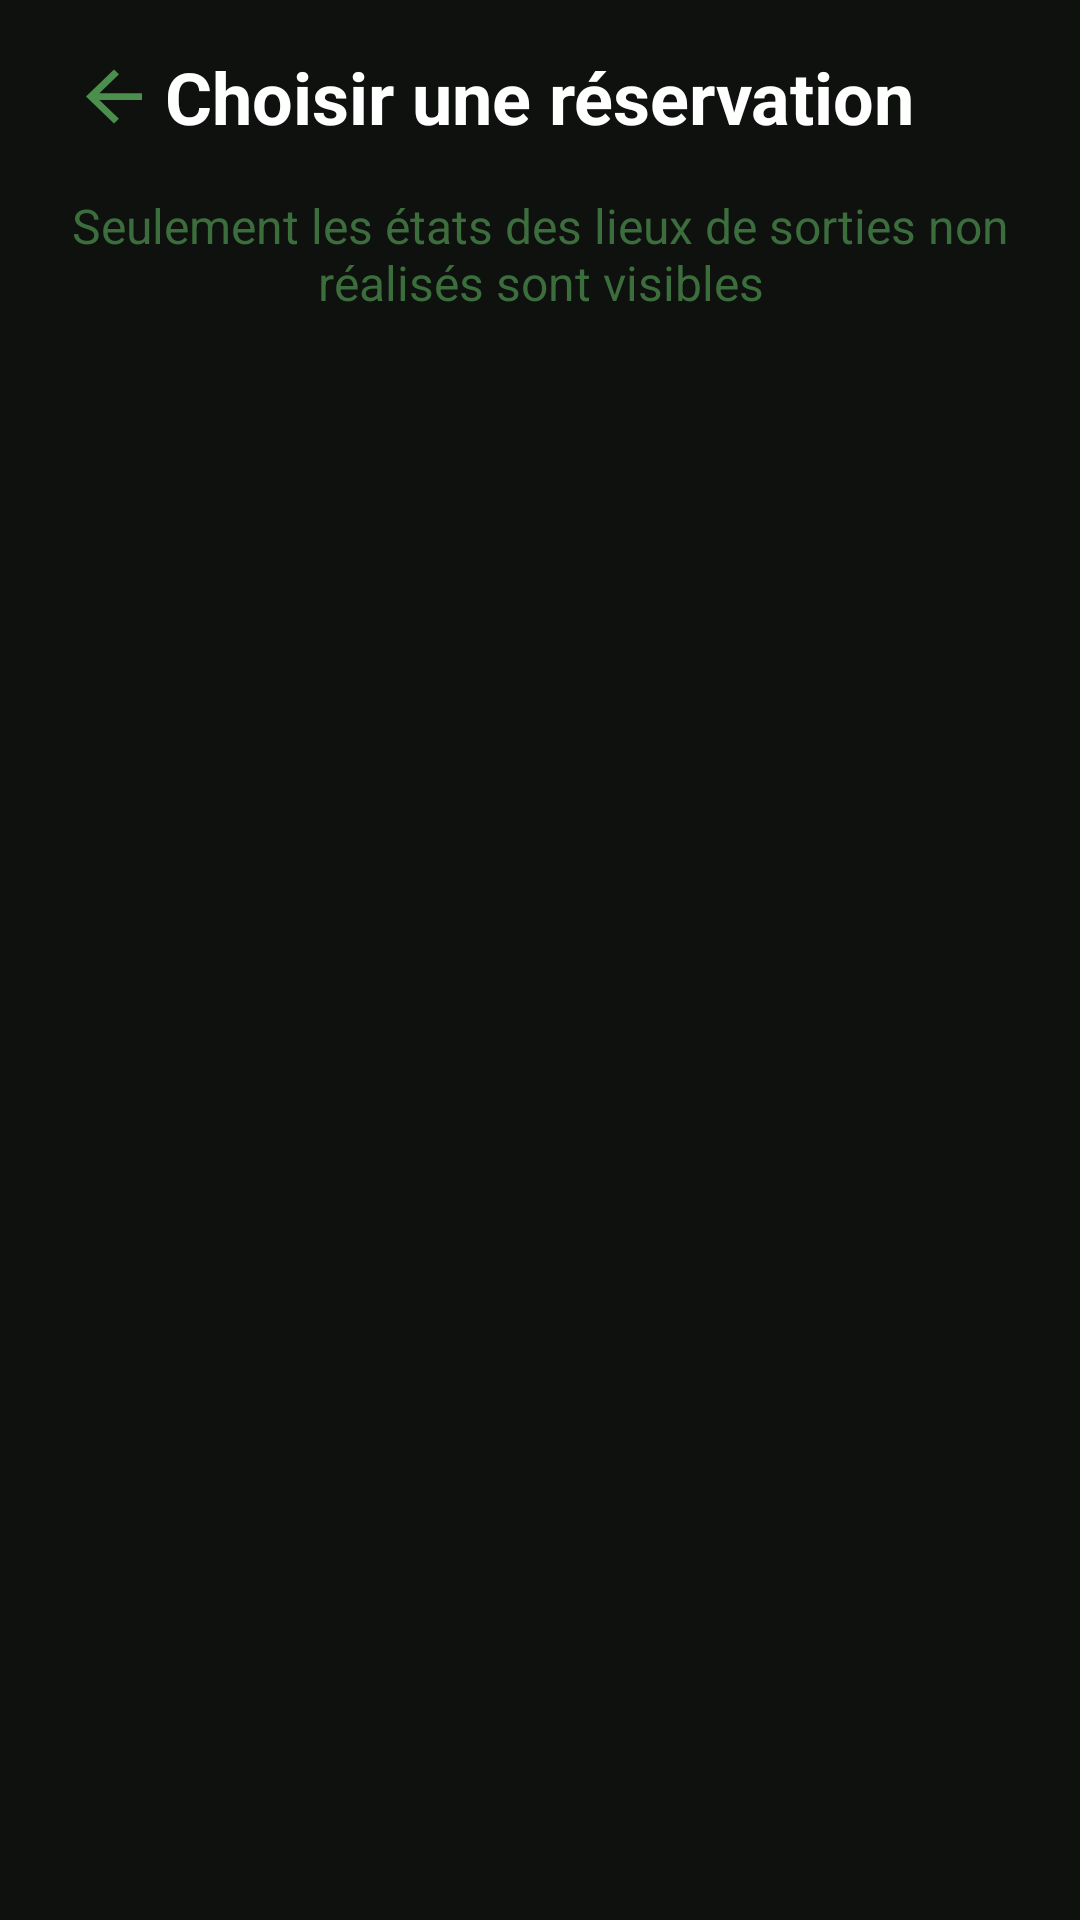

Icons on this 1080w x 1920h Android screen, each with the point to tap as (x=x, y=y):
arrow back: (x=114, y=96)
